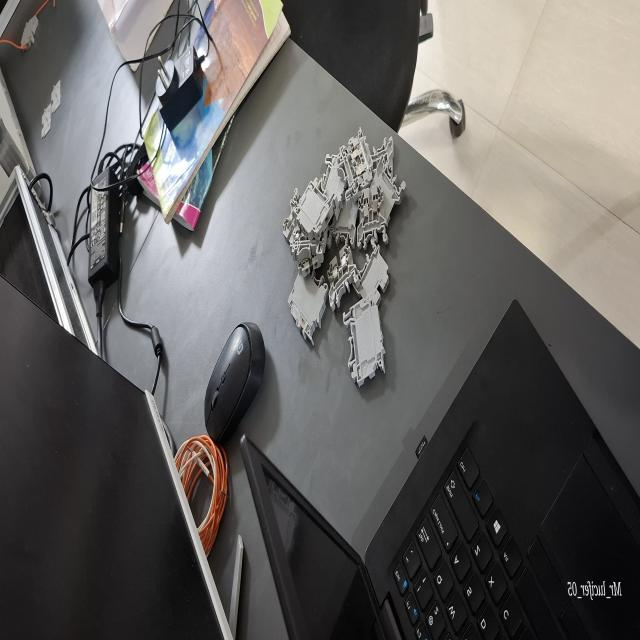Inverted: (357, 243, 390, 307)
Pass: (354, 182, 390, 250), (328, 244, 358, 313)
